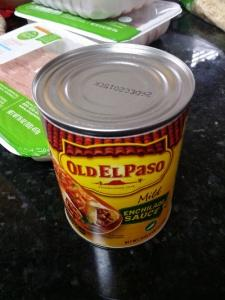metal: (32, 43, 196, 248)
